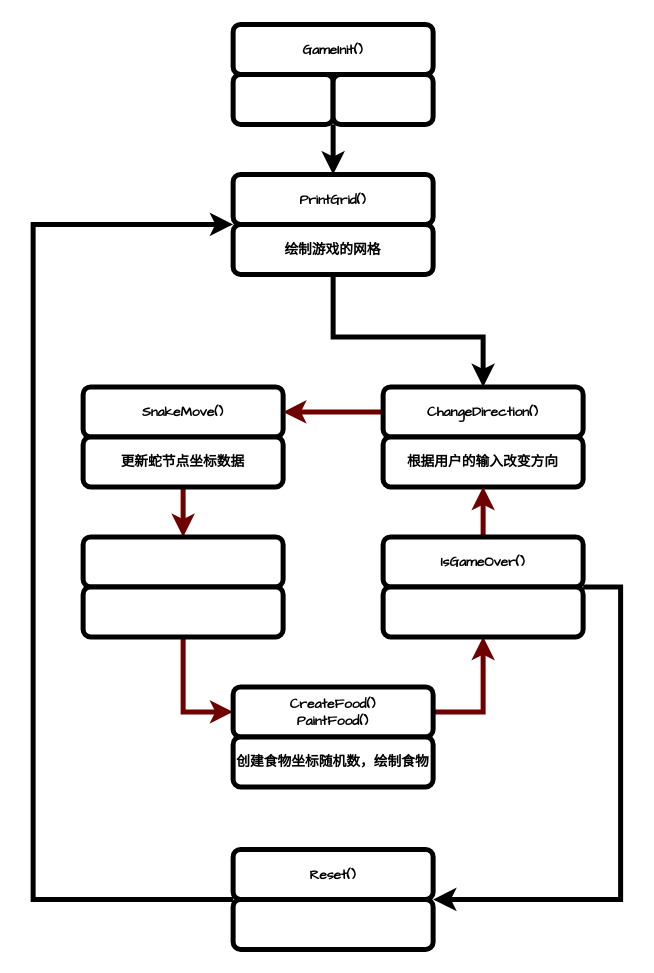
This 654x973 diagram has some shape labels left out. Each missing label, with the centre of its shape:
"PrintSnake()" goes at [182,561].
"创建绘图窗口" goes at [382,98].
"复位蛇的坐标和数据" goes at [332,923].
"根据蛇结点坐标数据，绘制蛇" goes at [182,611].
"检测游戏是否结束" goes at [482,611].
"设置随机数" goes at [282,98].
